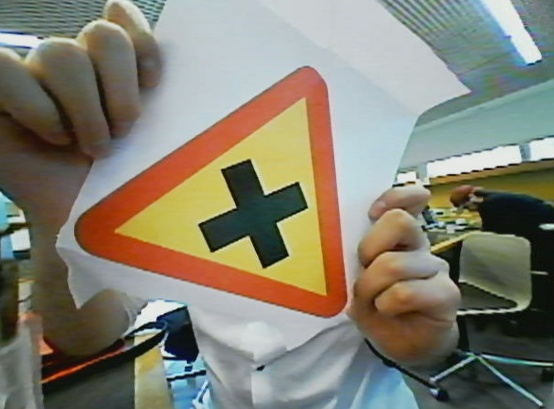junction: (85, 72, 354, 324)
